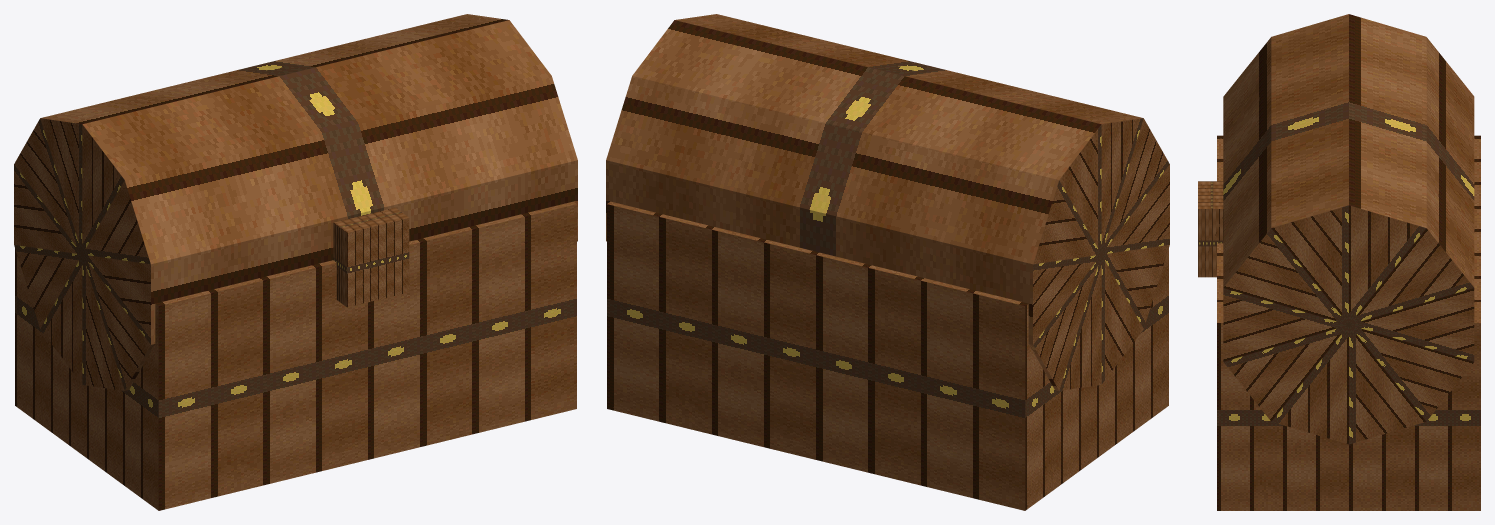
File: bau_madeira.glb
3 renders of one model, left to right at view 1: azimuth 30°, elevation 25°; view 2: azimuth 150°, elevation 25°; view 3: azimuth 270°, elevation 25°, orthographic. The views are drawn at different scales.
Visible parts, largest first — view 1: bau_madeira; view 2: bau_madeira; view 3: bau_madeira.
Part boxes in pixels (x1,y1,x2,y2): bau_madeira: [14, 14, 577, 510]; bau_madeira: [606, 14, 1169, 510]; bau_madeira: [1198, 14, 1480, 510].
Bounding box in the file's own units: 0.96 × 0.72 × 0.6.
1 material, 1 textured.
